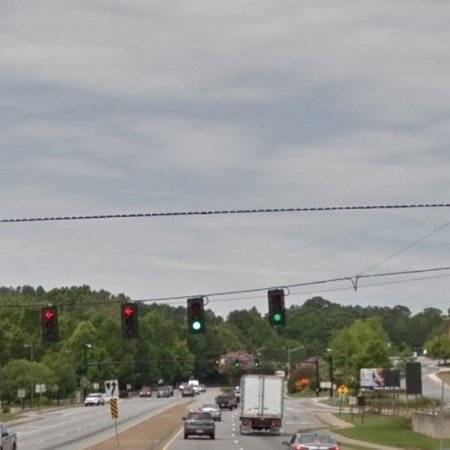汽車: (231, 371, 292, 436), (281, 426, 349, 450), (131, 383, 211, 401), (176, 409, 218, 440), (1, 415, 29, 450), (76, 387, 107, 413)
紅綠燈: (20, 290, 83, 348), (114, 296, 153, 345), (263, 285, 298, 331), (184, 289, 213, 341)
